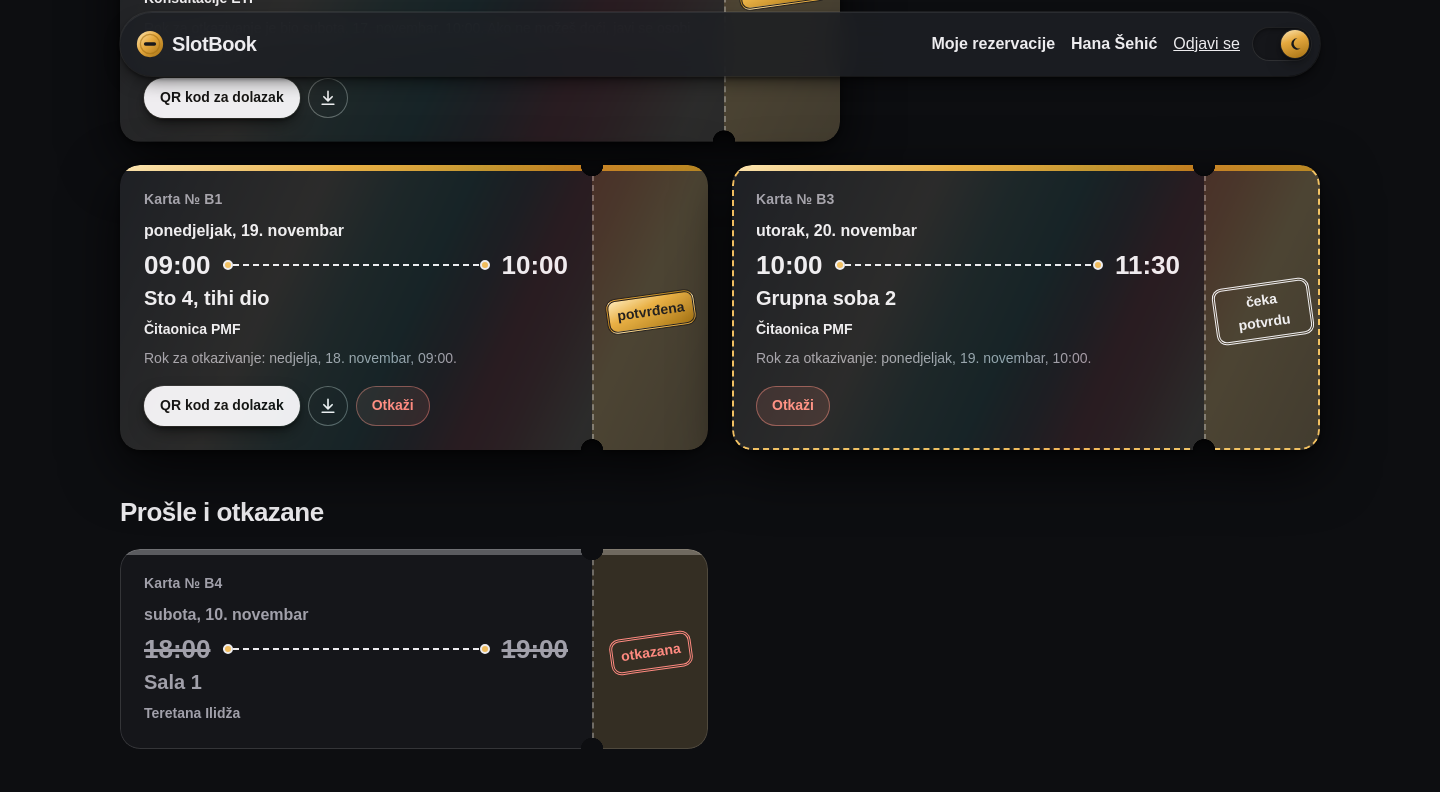
Scenario: otkazivanje › rok za otkazivanje piše uz rezervaciju, a otkazivanje traži potvrdu
(page scrolled)
Expected: the text "Rok za otkazivanje: nedjelja, 18. novembar, 09:00." is shown, [144,350,457,366]
Click the button "Otkaži" below "Sto 4, tihi dio": (393, 406) [356,386,430,426]
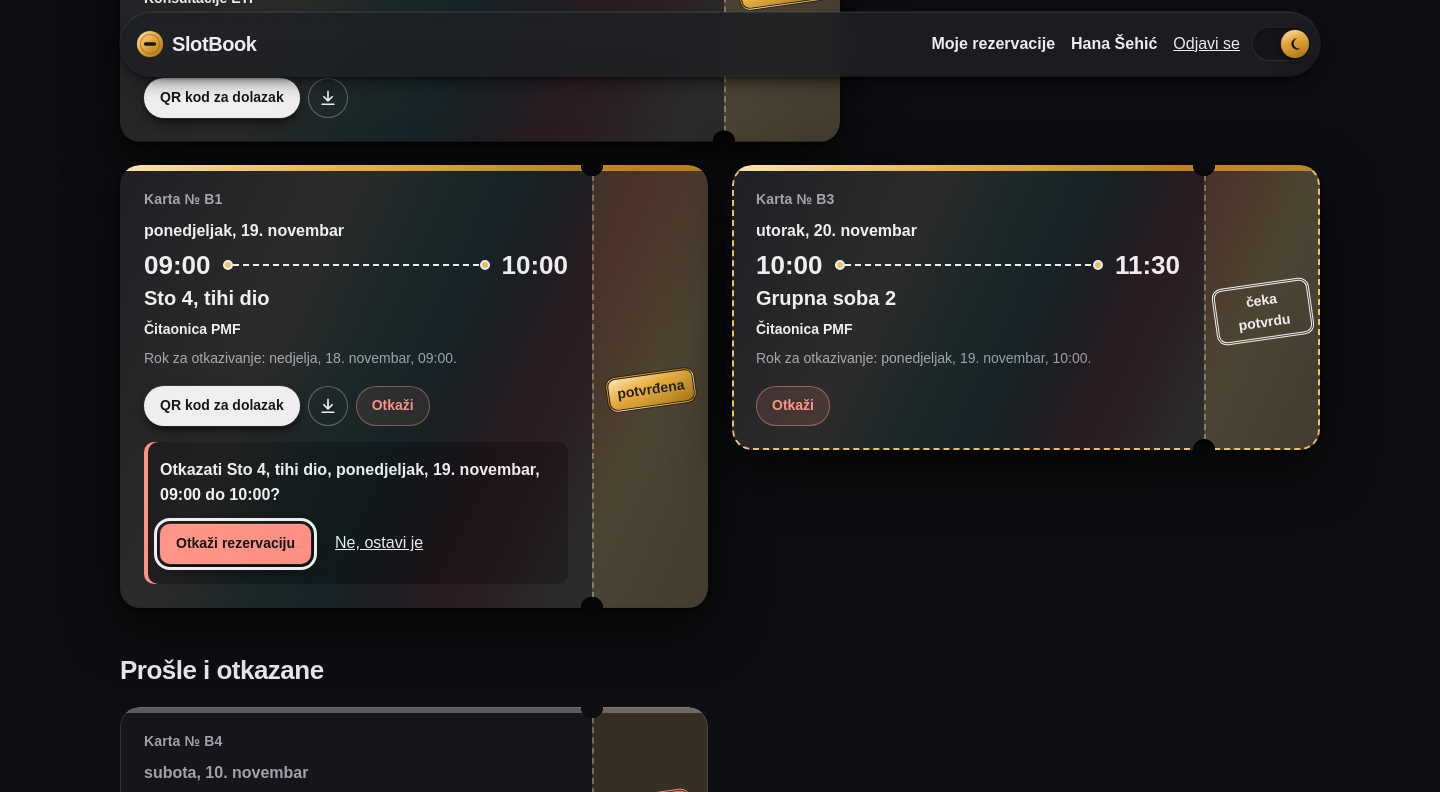
Click the button "Otkaži rezervaciju": (236, 544) [160,524,311,564]
(page scrolled)
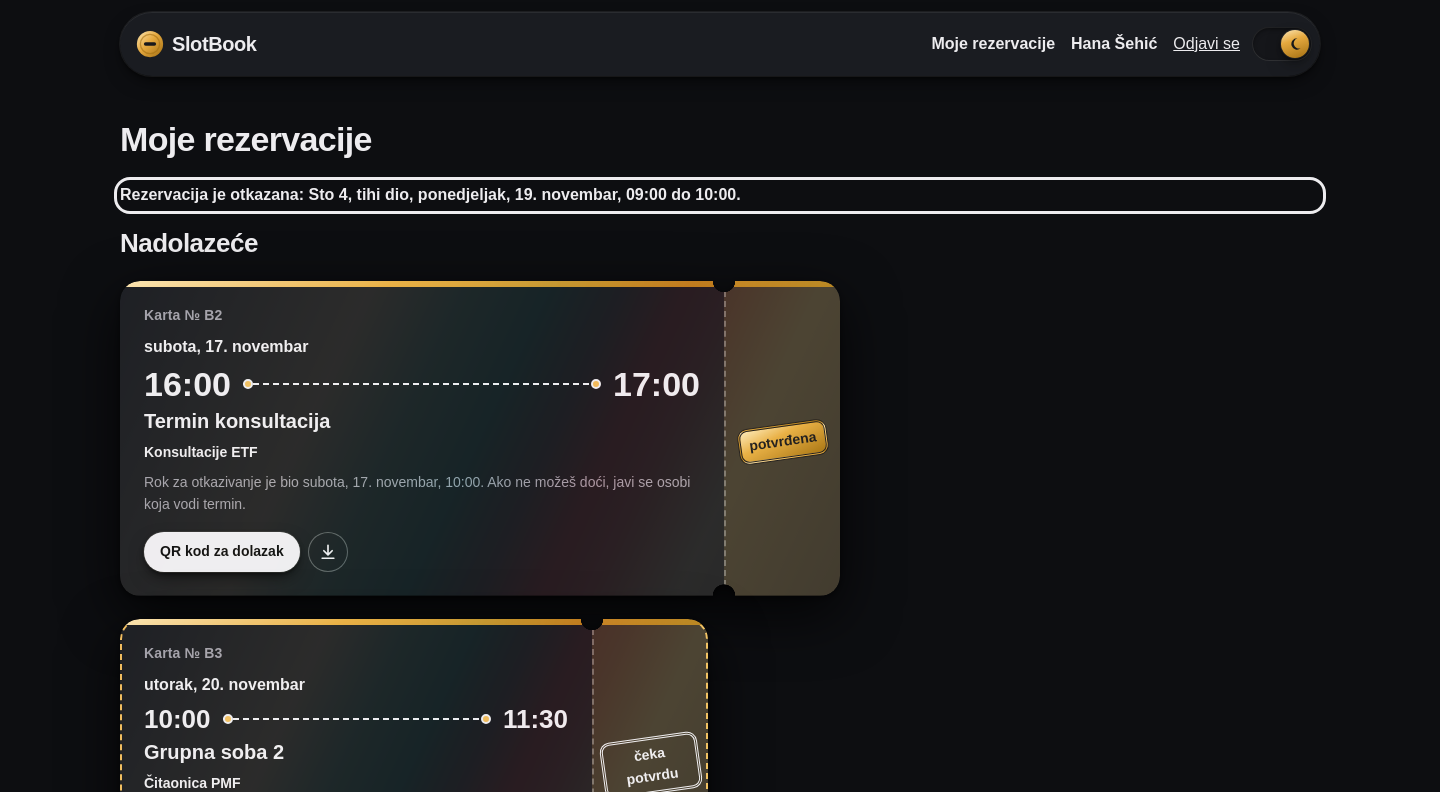
Now the text "Rezervacija je otkazana" shows "Rezervacija je otkazana: Sto 4, tihi dio, ponedjeljak, 19. novembar, 09:00 do 10:00.", box [120,186,741,203]
